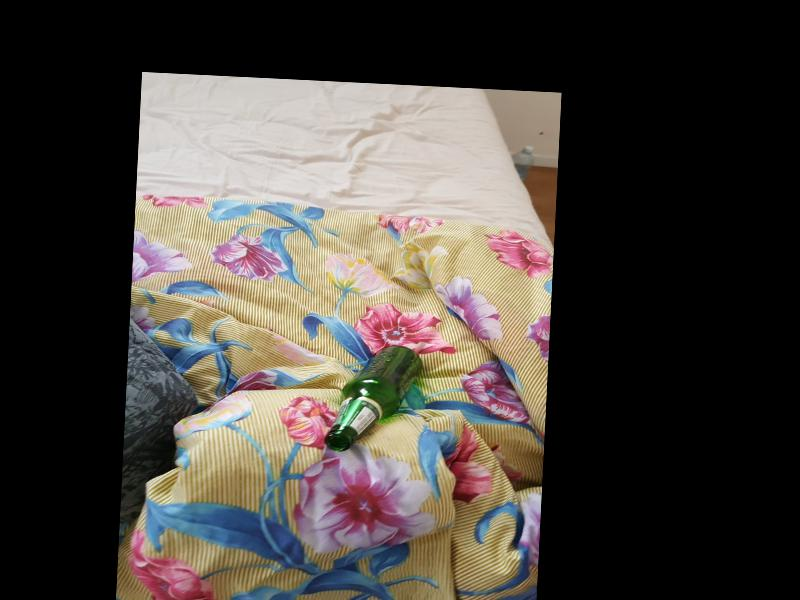Beer: (326, 343, 423, 456)
